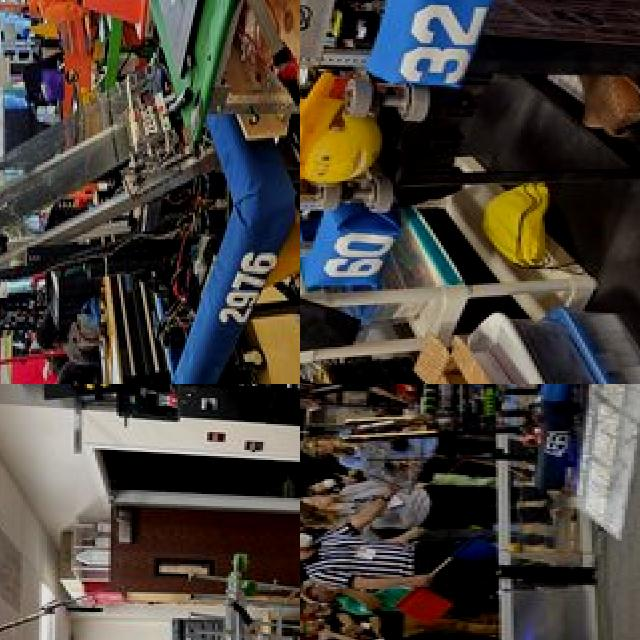FRC-Robots: (0, 0, 300, 384), (300, 0, 640, 336), (0, 502, 300, 640), (300, 384, 581, 511)
